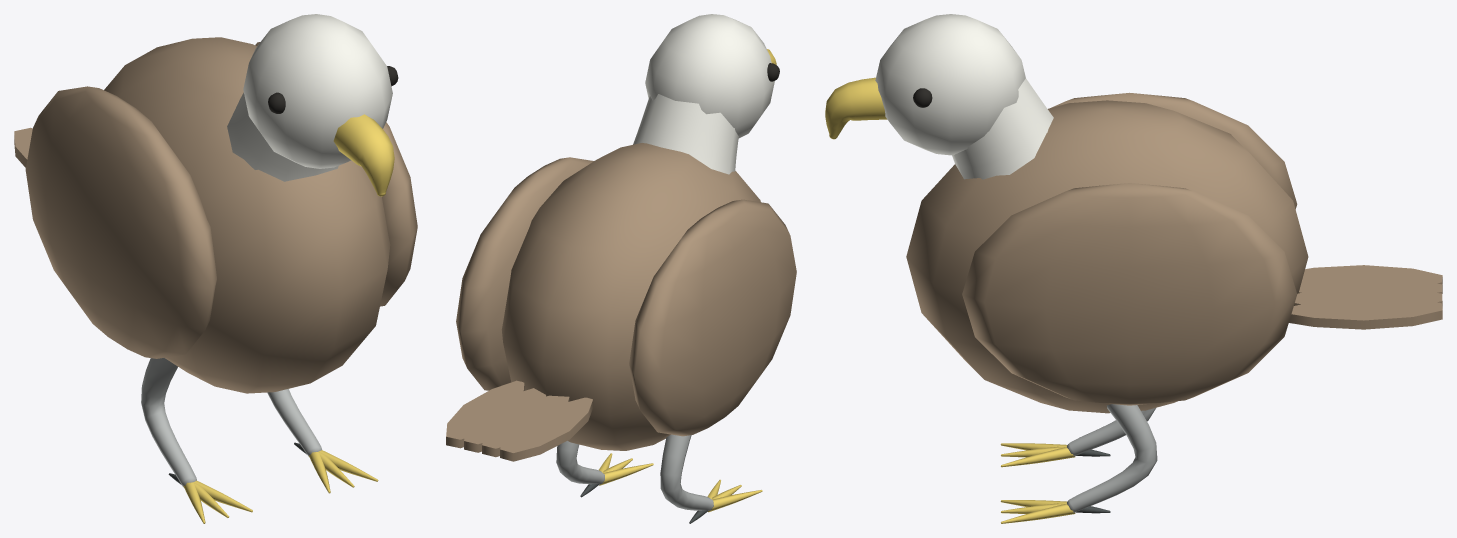
The model's file is birds-and-flying-creatures-bald-eagle-4953640c__20586.glb.
3 renders of one model, left to right at view 1: azimuth 30°, elevation 25°; view 2: azimuth 150°, elevation 25°; view 3: azimuth 270°, elevation 25°, orthographic. The views are drawn at different scales.
Visible parts, largest first — view 1: bald-eagle; view 2: bald-eagle; view 3: bald-eagle.
Boxes of the visible parts, x1,y1,x2,y2 form: bald-eagle: (14,14,417,523); bald-eagle: (446,14,796,523); bald-eagle: (825,14,1442,523).
Size of the model in its own units: 0.4696 by 0.827 by 0.9947.
